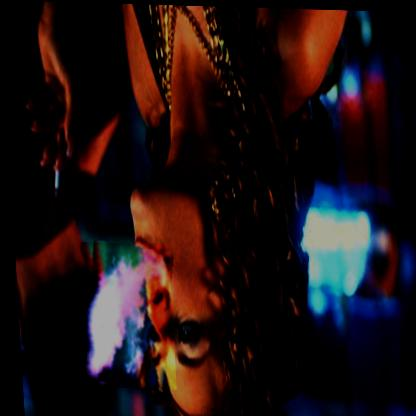smoke: (77, 242, 172, 389)
